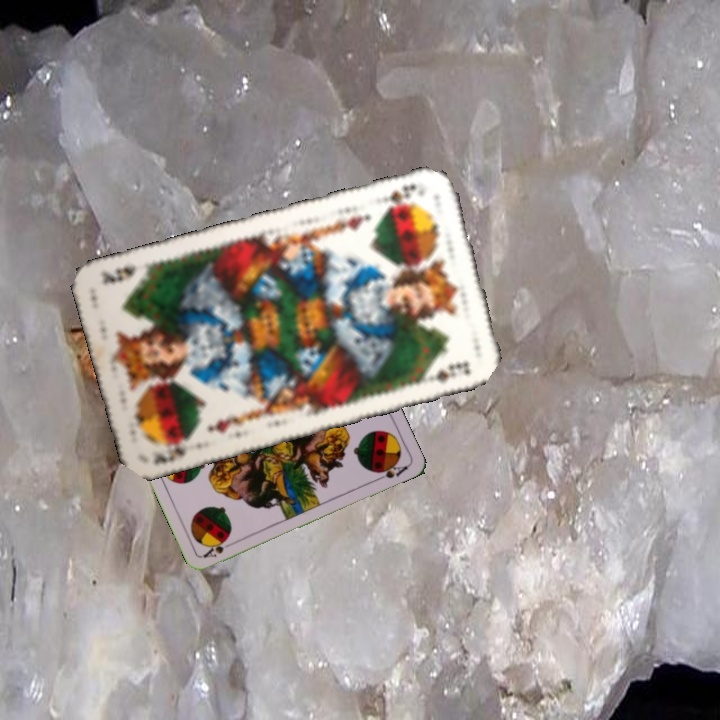SA: (199, 536, 238, 561)
SK: (148, 431, 197, 468), (374, 180, 419, 212)
